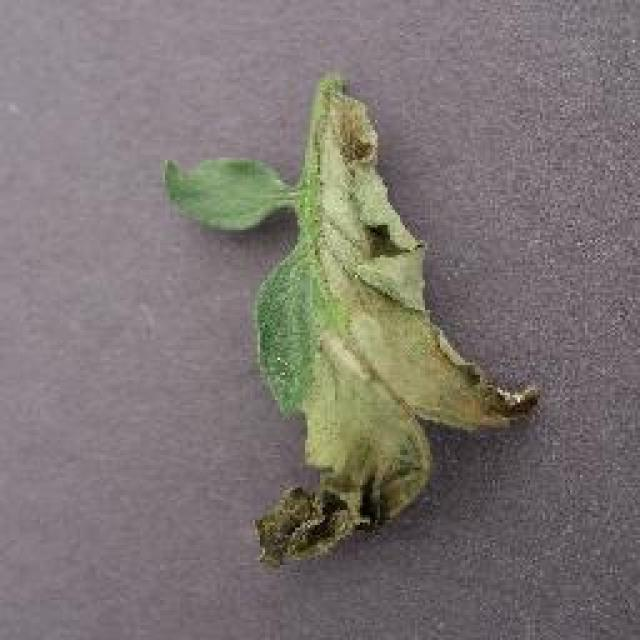Tomato Late Blight: (270, 48, 500, 575)
